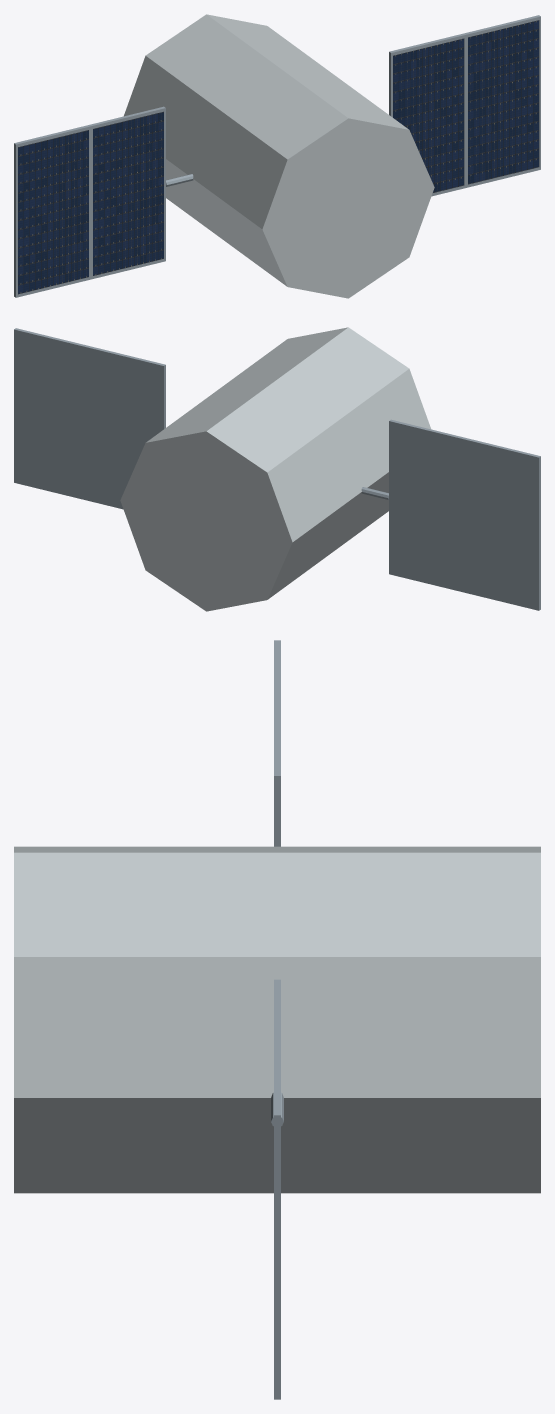
The model's file is ref-oao-2142.glb.
The picture shows the model from 3 angles, top to bottom: view 1: azimuth 30°, elevation 25°; view 2: azimuth 150°, elevation 25°; view 3: azimuth 270°, elevation 25°; orthographic projection. The views are drawn at different scales.
Parts seen in each view (by area): view 1: Spacecraft body, Photovoltaic laminates (×4), Array frame (×4); view 2: Spacecraft body, Array frame (×4); view 3: Spacecraft body, Array frame (×2).
Part boxes in pixels (left/top/right/bottom): Spacecraft body: left=124, top=14, right=434, bottom=298; Photovoltaic laminates (×4): left=18, top=20, right=539, bottom=294; Array frame (×4): left=14, top=15, right=540, bottom=297; Spacecraft body: left=120, top=327, right=430, bottom=611; Array frame (×4): left=14, top=328, right=540, bottom=610; Spacecraft body: left=14, top=846, right=540, bottom=1193; Array frame (×2): left=274, top=708, right=280, bottom=1399.
Size of the model in its own units: 6.4 by 2.1 by 3.
3 materials, 1 textured.
